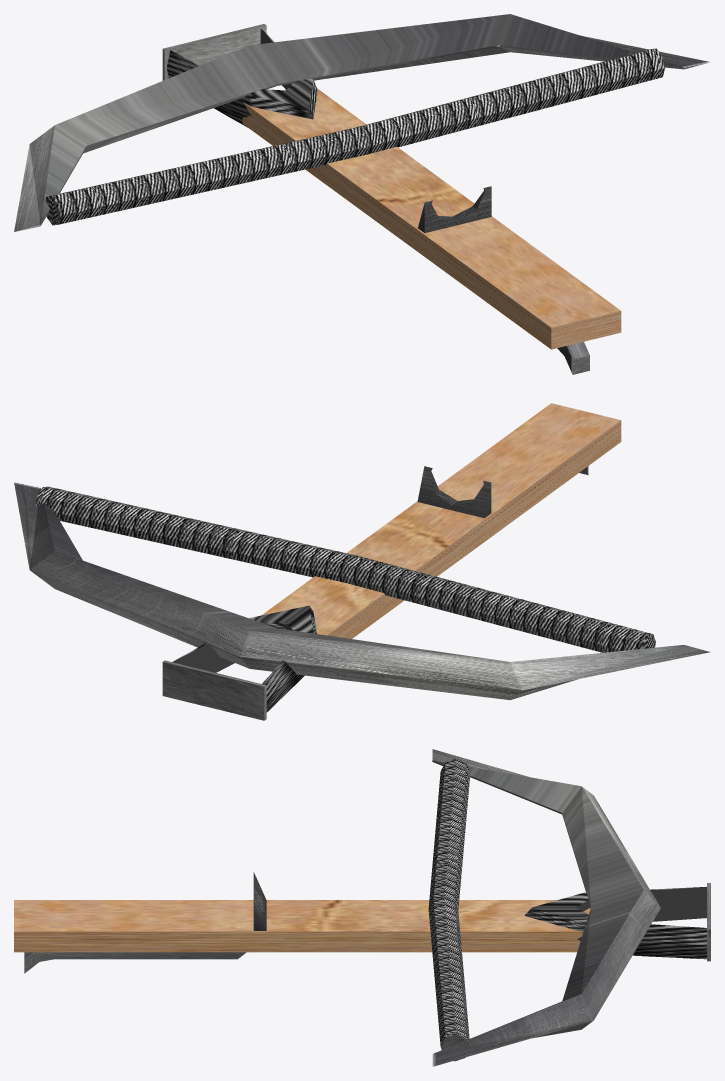
The model's file is Crossbow4.obj.
3 views of the same model, one above another, from view 1: azimuth 30°, elevation 25°; view 2: azimuth 150°, elevation 25°; view 3: azimuth 270°, elevation 25° (orthographic). The views are drawn at different scales.
Visible parts, largest first — view 1: Sphere; view 2: Sphere; view 3: Sphere.
Part boxes in pixels (bbox=[...]): Sphere: bbox=[14, 14, 710, 374]; Sphere: bbox=[14, 403, 710, 720]; Sphere: bbox=[14, 749, 710, 1066].
Bounding box in the file's own units: 5.04 × 0.6142 × 4.67.
